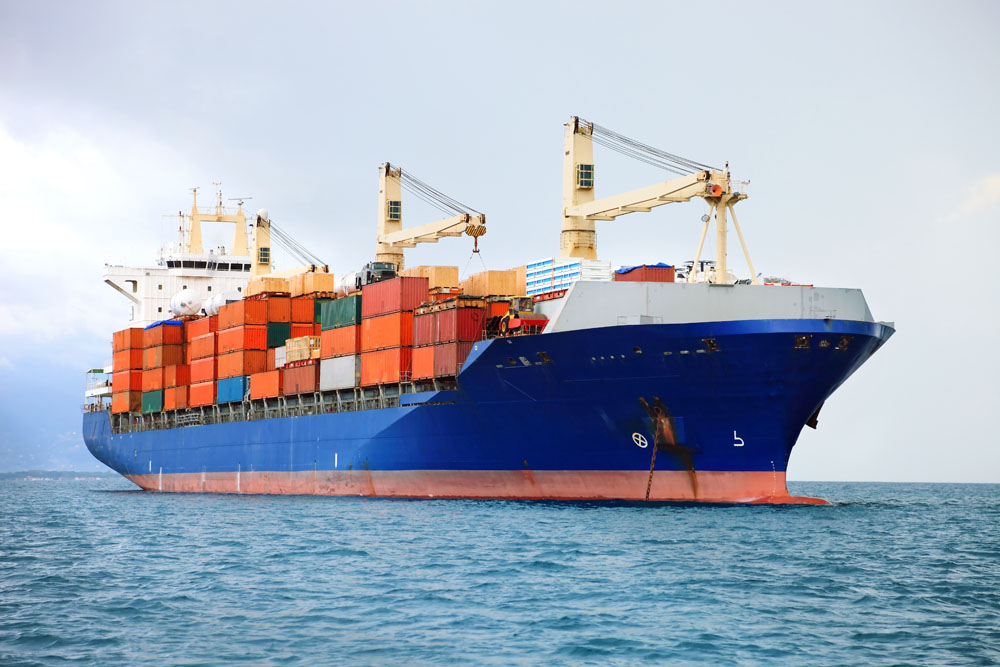Cargoship: (77, 107, 901, 500)
